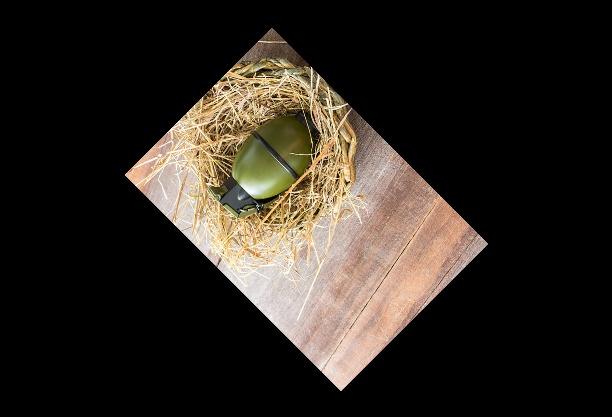e1: (204, 105, 325, 223)
